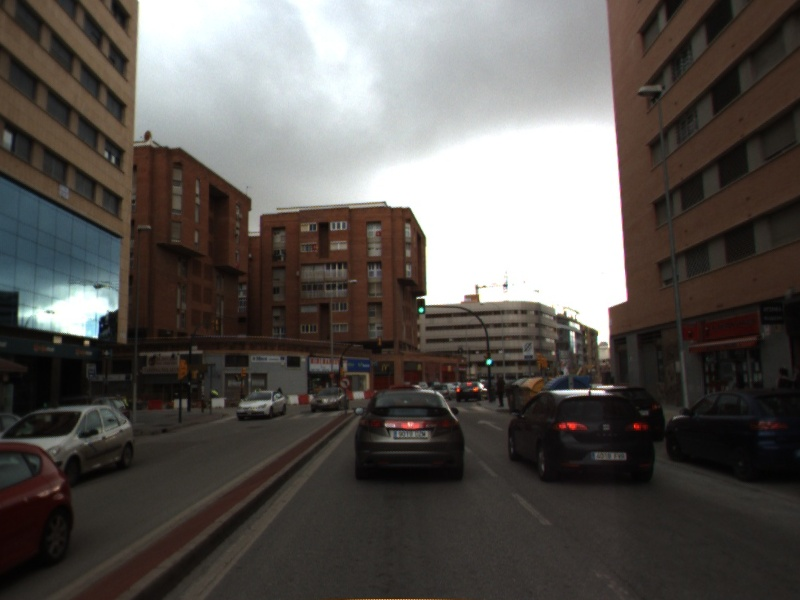STRAIGHT: (475, 417, 506, 433)
